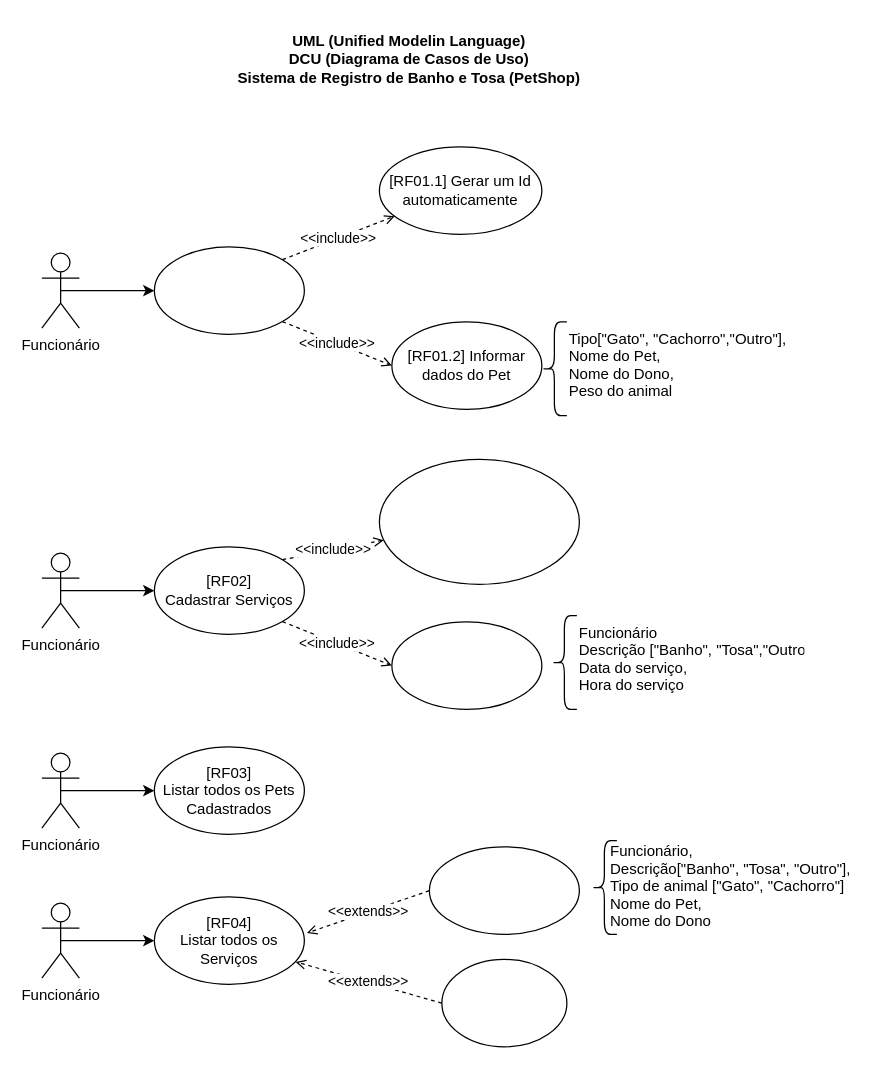
The diagram is 880 pixels wide and 1069 high, and some of its shapes have lost their labels. Each missing label, with the centre of its shape:
"[RF01] Cadastrar Animal/Pet" belongs at (228,290).
"[RF02.1] Verificar se o Pet está cadastrado e adicionar o objeto ao serviço" belongs at (478,521).
"[RF02.2] Informar dados do Serviço" belongs at (466,665).
"[RF04.01] Filtrar pelos textos comuns" belongs at (503,890).
"[RF04.02] Filtrar por Data" belongs at (504,1002).
